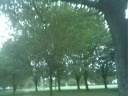window: (82, 38, 95, 62), (116, 21, 128, 41), (84, 81, 99, 96), (63, 48, 72, 68), (62, 85, 74, 96)
